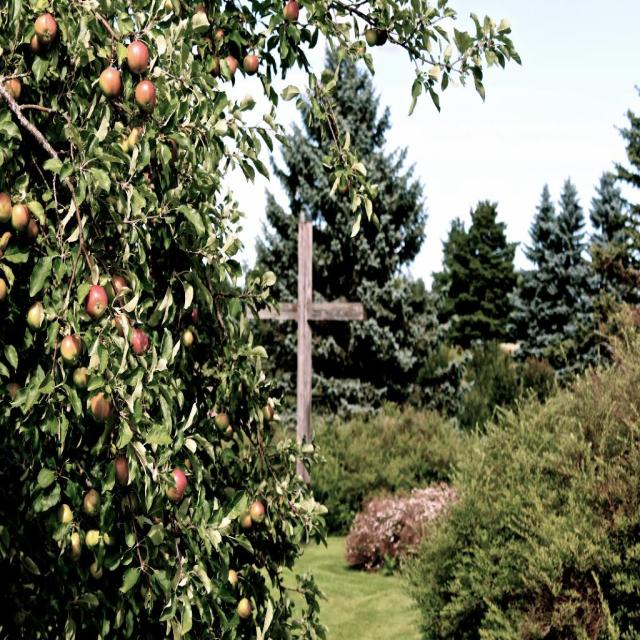Healty Apple: (0, 189, 153, 584), (96, 41, 182, 187), (166, 0, 260, 79), (165, 469, 188, 500), (36, 14, 58, 39), (212, 408, 232, 433), (4, 74, 24, 98), (235, 595, 255, 617), (282, 0, 298, 24), (250, 501, 266, 521), (239, 507, 251, 529), (228, 570, 240, 590), (254, 550, 267, 568), (375, 29, 389, 45), (364, 28, 376, 45), (183, 329, 192, 348), (264, 403, 275, 418), (32, 36, 41, 52), (354, 44, 366, 55), (191, 312, 198, 326)
